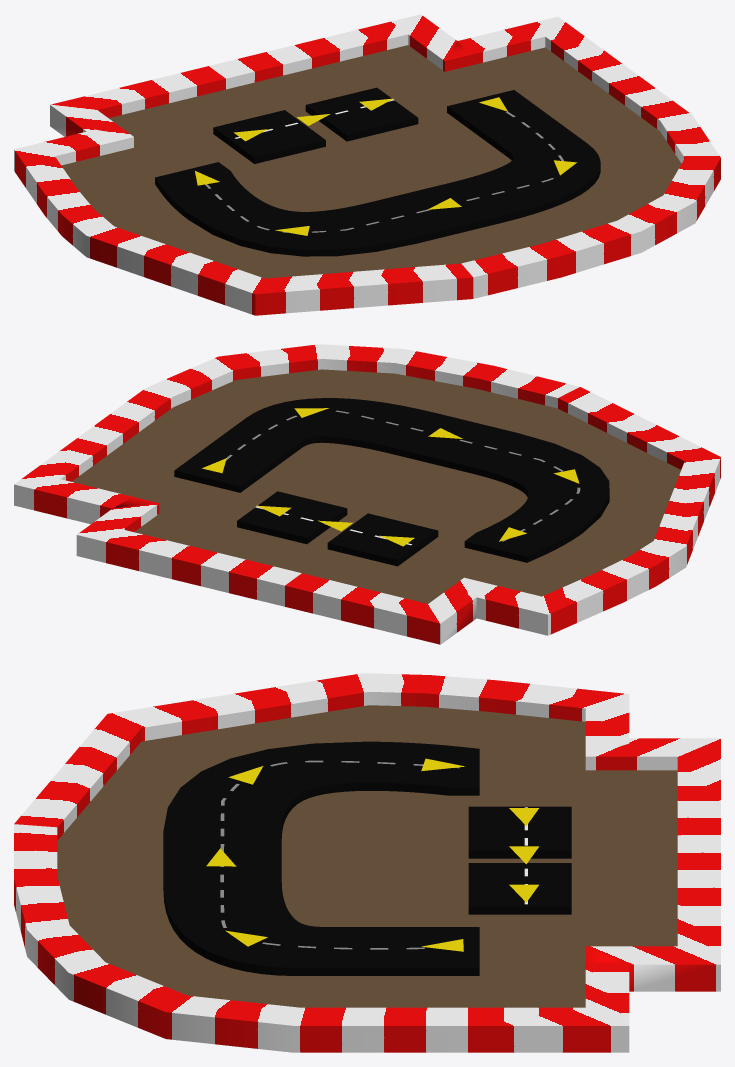
The model's file is teh.FBX.
The picture shows the model from 3 angles, top to bottom: view 1: azimuth 30°, elevation 25°; view 2: azimuth 150°, elevation 25°; view 3: azimuth 270°, elevation 25°; orthographic projection. The views are drawn at different scales.
Parts seen in each view (by area): view 1: ta_floor, ta_coll, ta; view 2: ta_floor, ta_coll, ta; view 3: ta_floor, ta_coll, ta, Line0.
Boxes of the visible parts, box(x1,y1,x2,y2) form: ta_floor: box(61, 45, 681, 278); ta_coll: box(14, 14, 720, 315); ta: box(155, 87, 600, 256); ta_floor: box(72, 369, 680, 603); ta_coll: box(14, 344, 720, 644); ta: box(174, 398, 609, 566); ta_floor: box(57, 705, 677, 1007); ta_coll: box(14, 673, 720, 1052); ta: box(163, 741, 571, 975); Line0: box(220, 760, 459, 949).
Bounding box in the file's own units: 922 × 32.78 × 781.
